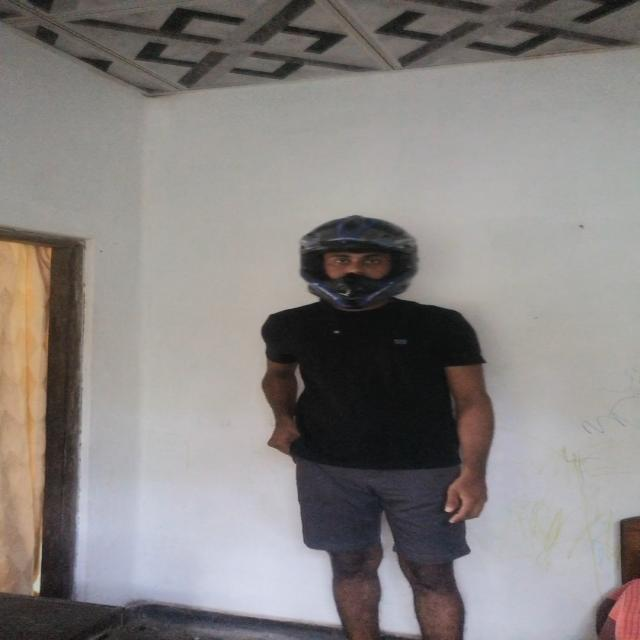Helmet_Wearer: (282, 209, 444, 315)
Person: (245, 212, 488, 636)
